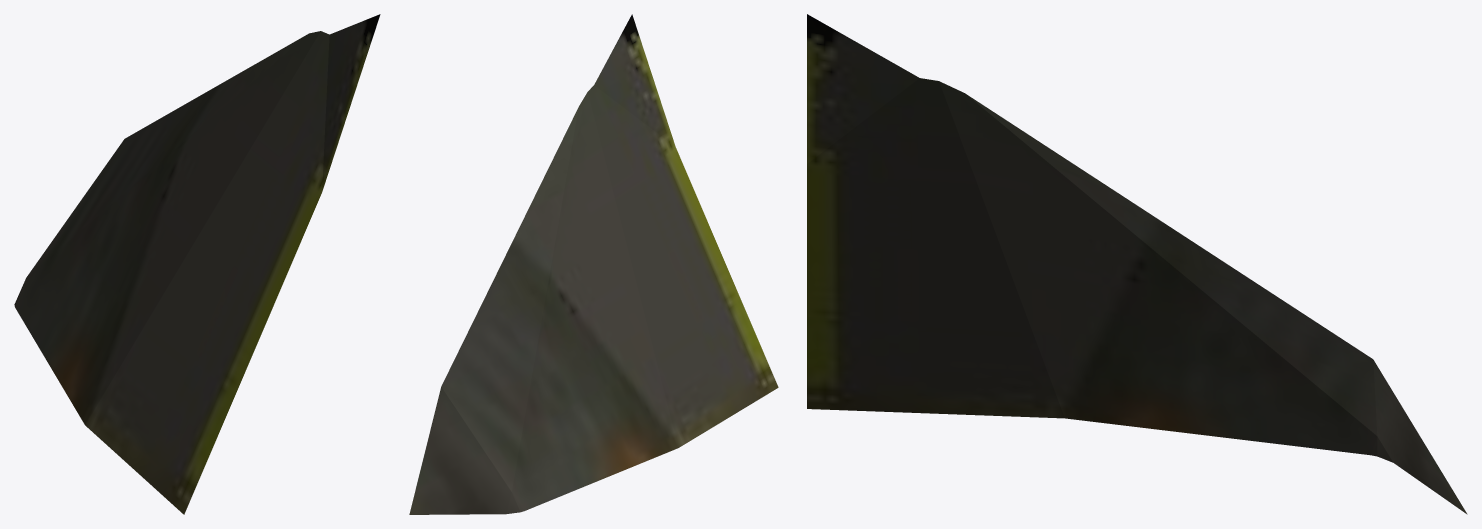
3 renders of one model, left to right at view 1: azimuth 30°, elevation 25°; view 2: azimuth 150°, elevation 25°; view 3: azimuth 270°, elevation 25°, orthographic. The views are drawn at different scales.
Size of the model in its own units: 0.2243 by 0.4943 by 0.5909.
Materials: 1 (1 with a texture image).
